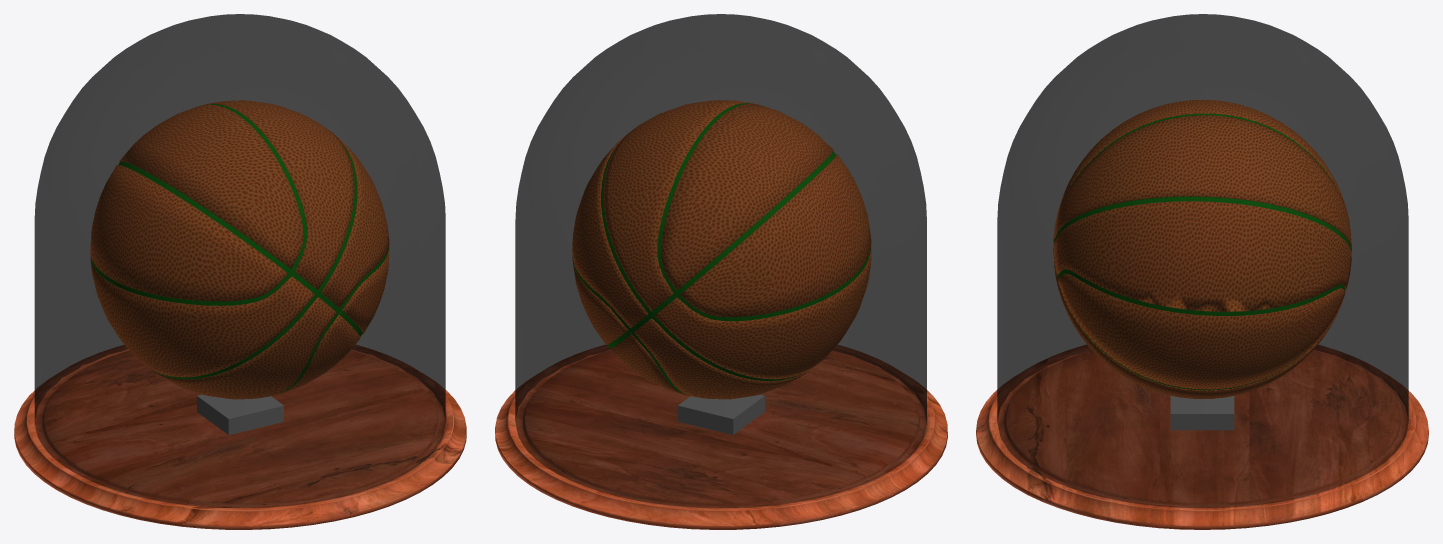
Rendered from basketball.obj.
The picture shows the model from 3 angles, left to right: view 1: azimuth 30°, elevation 25°; view 2: azimuth 150°, elevation 25°; view 3: azimuth 270°, elevation 25°; orthographic projection.
Parts seen in each view (by area): view 1: Capsule001, NBA_BASKETBALL001, Circle001, Object001, Cube.001; view 2: Capsule001, NBA_BASKETBALL001, Circle001, Object001, Cube.001; view 3: Capsule001, NBA_BASKETBALL001, Circle001, Object001, Cube.001.
Boxes of the visible parts, x1=… form: Capsule001: x1=34, y1=14, x2=445, y2=507; NBA_BASKETBALL001: x1=90, y1=100, x2=389, y2=399; Circle001: x1=14, y1=345, x2=466, y2=529; Object001: x1=91, y1=104, x2=388, y2=392; Cube.001: x1=197, y1=394, x2=283, y2=434; Capsule001: x1=515, y1=14, x2=926, y2=507; NBA_BASKETBALL001: x1=572, y1=100, x2=871, y2=399; Circle001: x1=495, y1=345, x2=947, y2=529; Object001: x1=573, y1=103, x2=870, y2=394; Cube.001: x1=677, y1=394, x2=765, y2=434; Capsule001: x1=997, y1=14, x2=1408, y2=507; NBA_BASKETBALL001: x1=1053, y1=100, x2=1351, y2=398; Circle001: x1=976, y1=345, x2=1428, y2=529; Object001: x1=1054, y1=113, x2=1350, y2=390; Cube.001: x1=1170, y1=395, x2=1234, y2=430.
Bounding box in the file's own units: 14.17 × 14.68 × 14.17.
6 materials, 2 textured.
